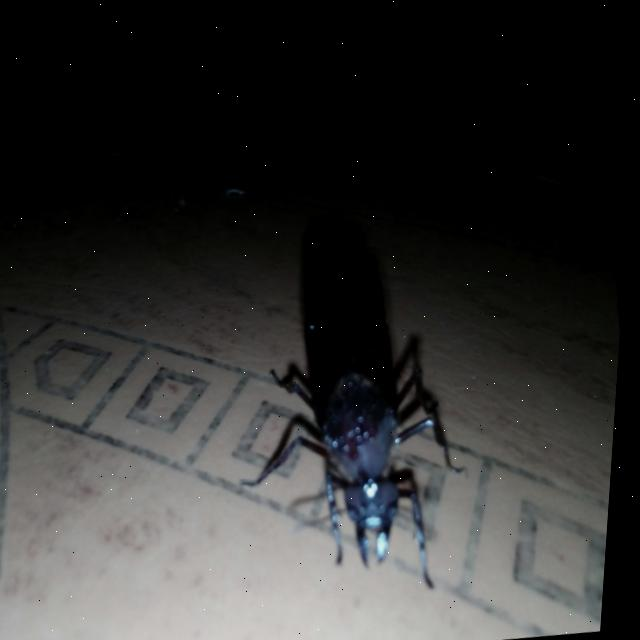Alive-Female-Alate: (206, 191, 504, 611)
